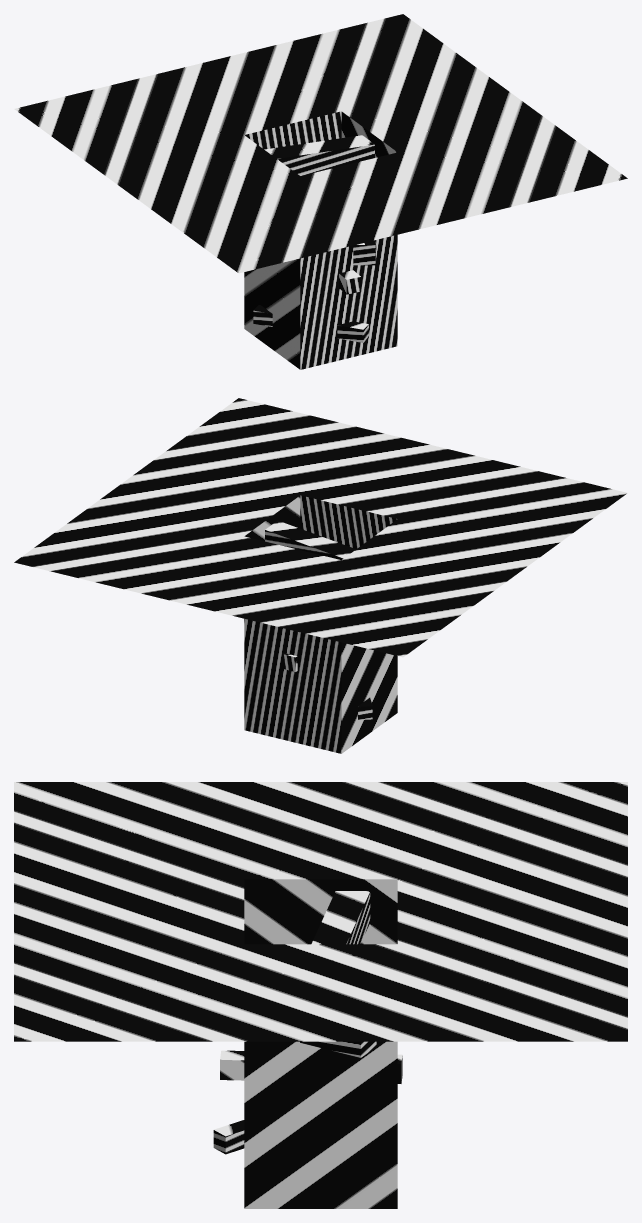
File: collision-world.glb
3 renders of one model, top to bottom at view 1: azimuth 30°, elevation 25°; view 2: azimuth 150°, elevation 25°; view 3: azimuth 270°, elevation 25°, orthographic. The views are drawn at different scales.
Visible parts, largest first — view 1: collision-world; view 2: collision-world; view 3: collision-world.
Part boxes in pixels (x1,y1,x2,y2): collision-world: [14, 14, 627, 369]; collision-world: [14, 398, 627, 753]; collision-world: [14, 782, 627, 1208].
Size of the model in its own units: 40 by 19.03 by 40.
1 material, 1 textured.
